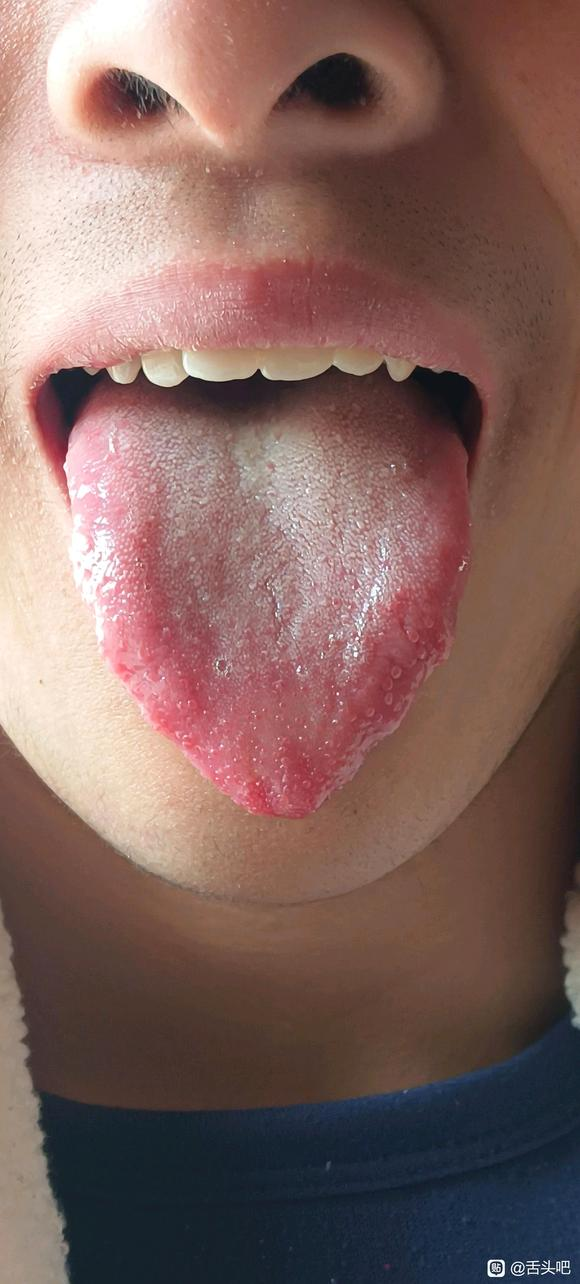hongshe: (62, 382, 472, 819)
huangtaishe: (63, 382, 473, 819)
